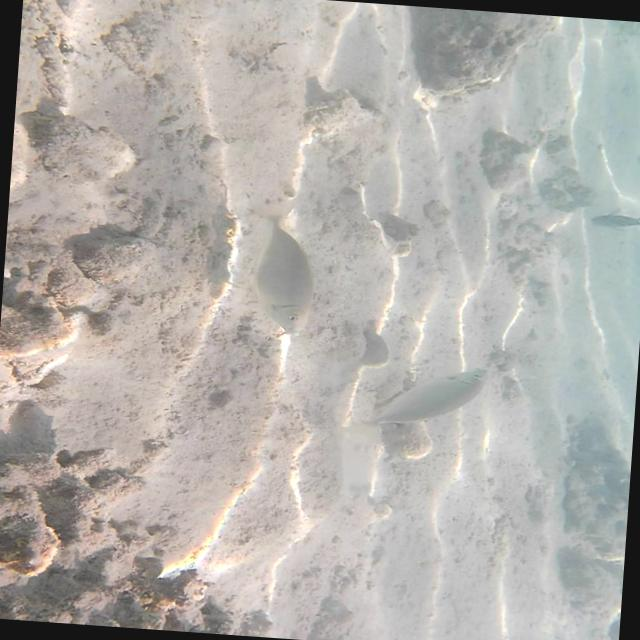Sokar Baligi: (338, 351, 504, 452), (229, 192, 335, 338)
